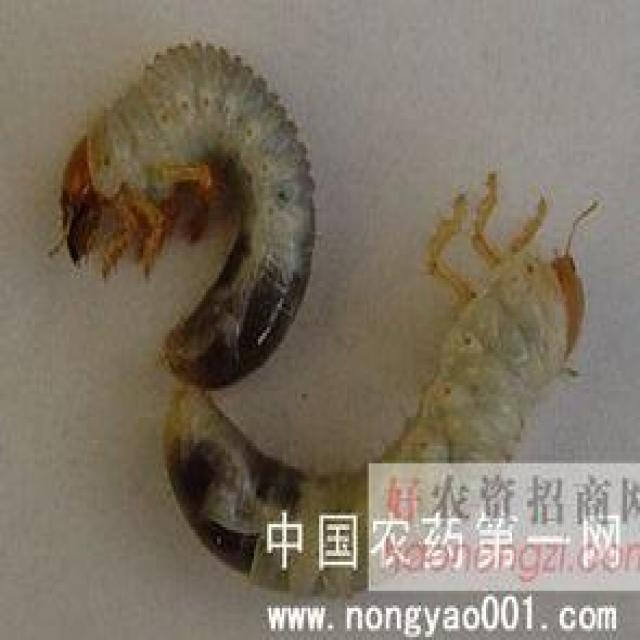Grub-Adult-: (49, 28, 329, 392)
